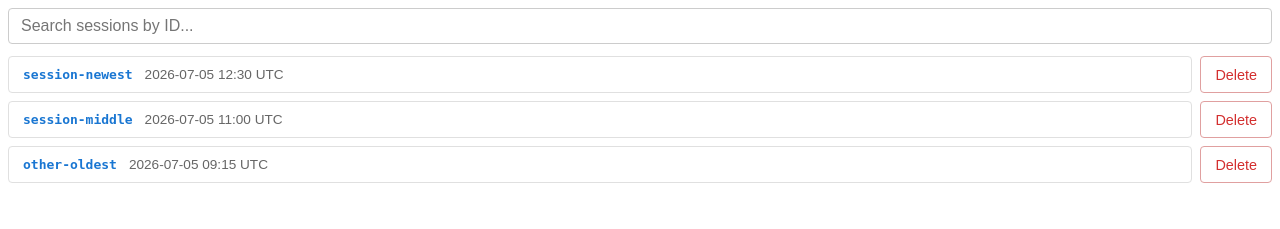
Test: SessionList › deletion (SL-AC5) › keeps the row and shows an error when the delete fails
The image size is (1280, 229).
Click the button with aria-label "Delete session-middle".
click(1236, 120)  # box [1200,101,1272,138]
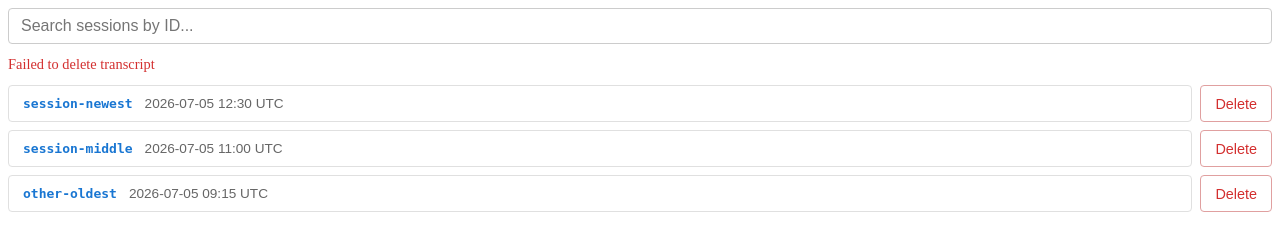
Expected: the text "session-middle" is shown, [23,141,133,156]
Now the message with test id "session-delete-error" reads "Failed to delete transcript", box [8,56,155,72]
